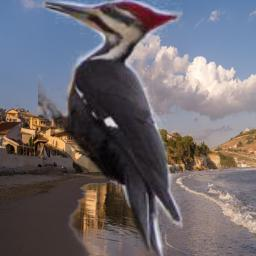Woodpecker: (38, 0, 183, 256)
